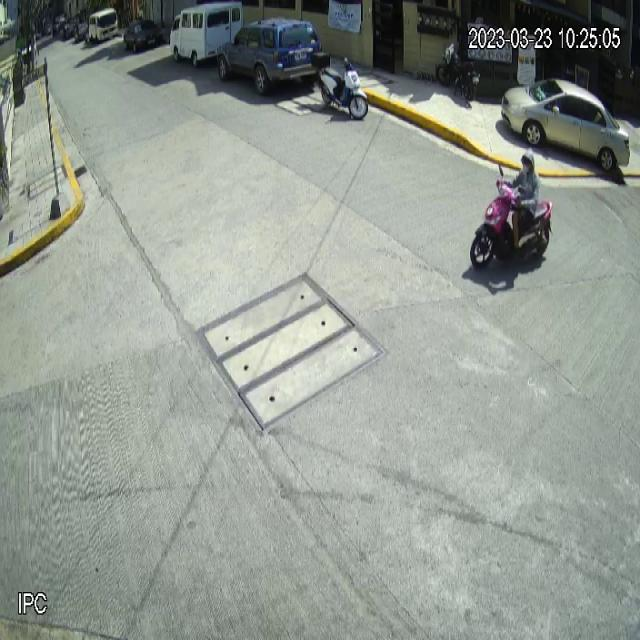Car: (501, 76, 631, 171), (219, 15, 325, 94)
Motorcycle: (469, 162, 553, 271), (312, 48, 369, 120)
Van: (170, 1, 245, 67)
